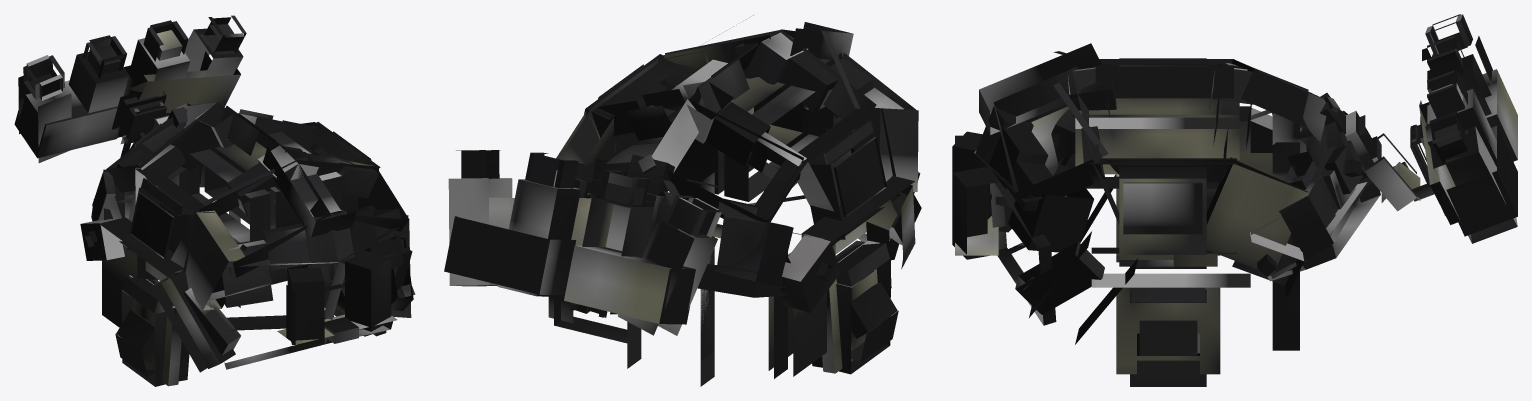
Rendered from ghost_h.obj.
The picture shows the model from 3 angles, left to right: view 1: azimuth 30°, elevation 25°; view 2: azimuth 150°, elevation 25°; view 3: azimuth 270°, elevation 25°; orthographic projection. The views are drawn at different scales.
Parts seen in each view (by area): view 1: ghost_h; view 2: ghost_h; view 3: ghost_h.
Part boxes in pixels (x1,y1,x2,y2): ghost_h: (14,15,415,386); ghost_h: (444,15,921,386); ghost_h: (952,14,1517,386).
Bounding box in the file's own units: 0.7742 × 0.6767 × 1.29.
